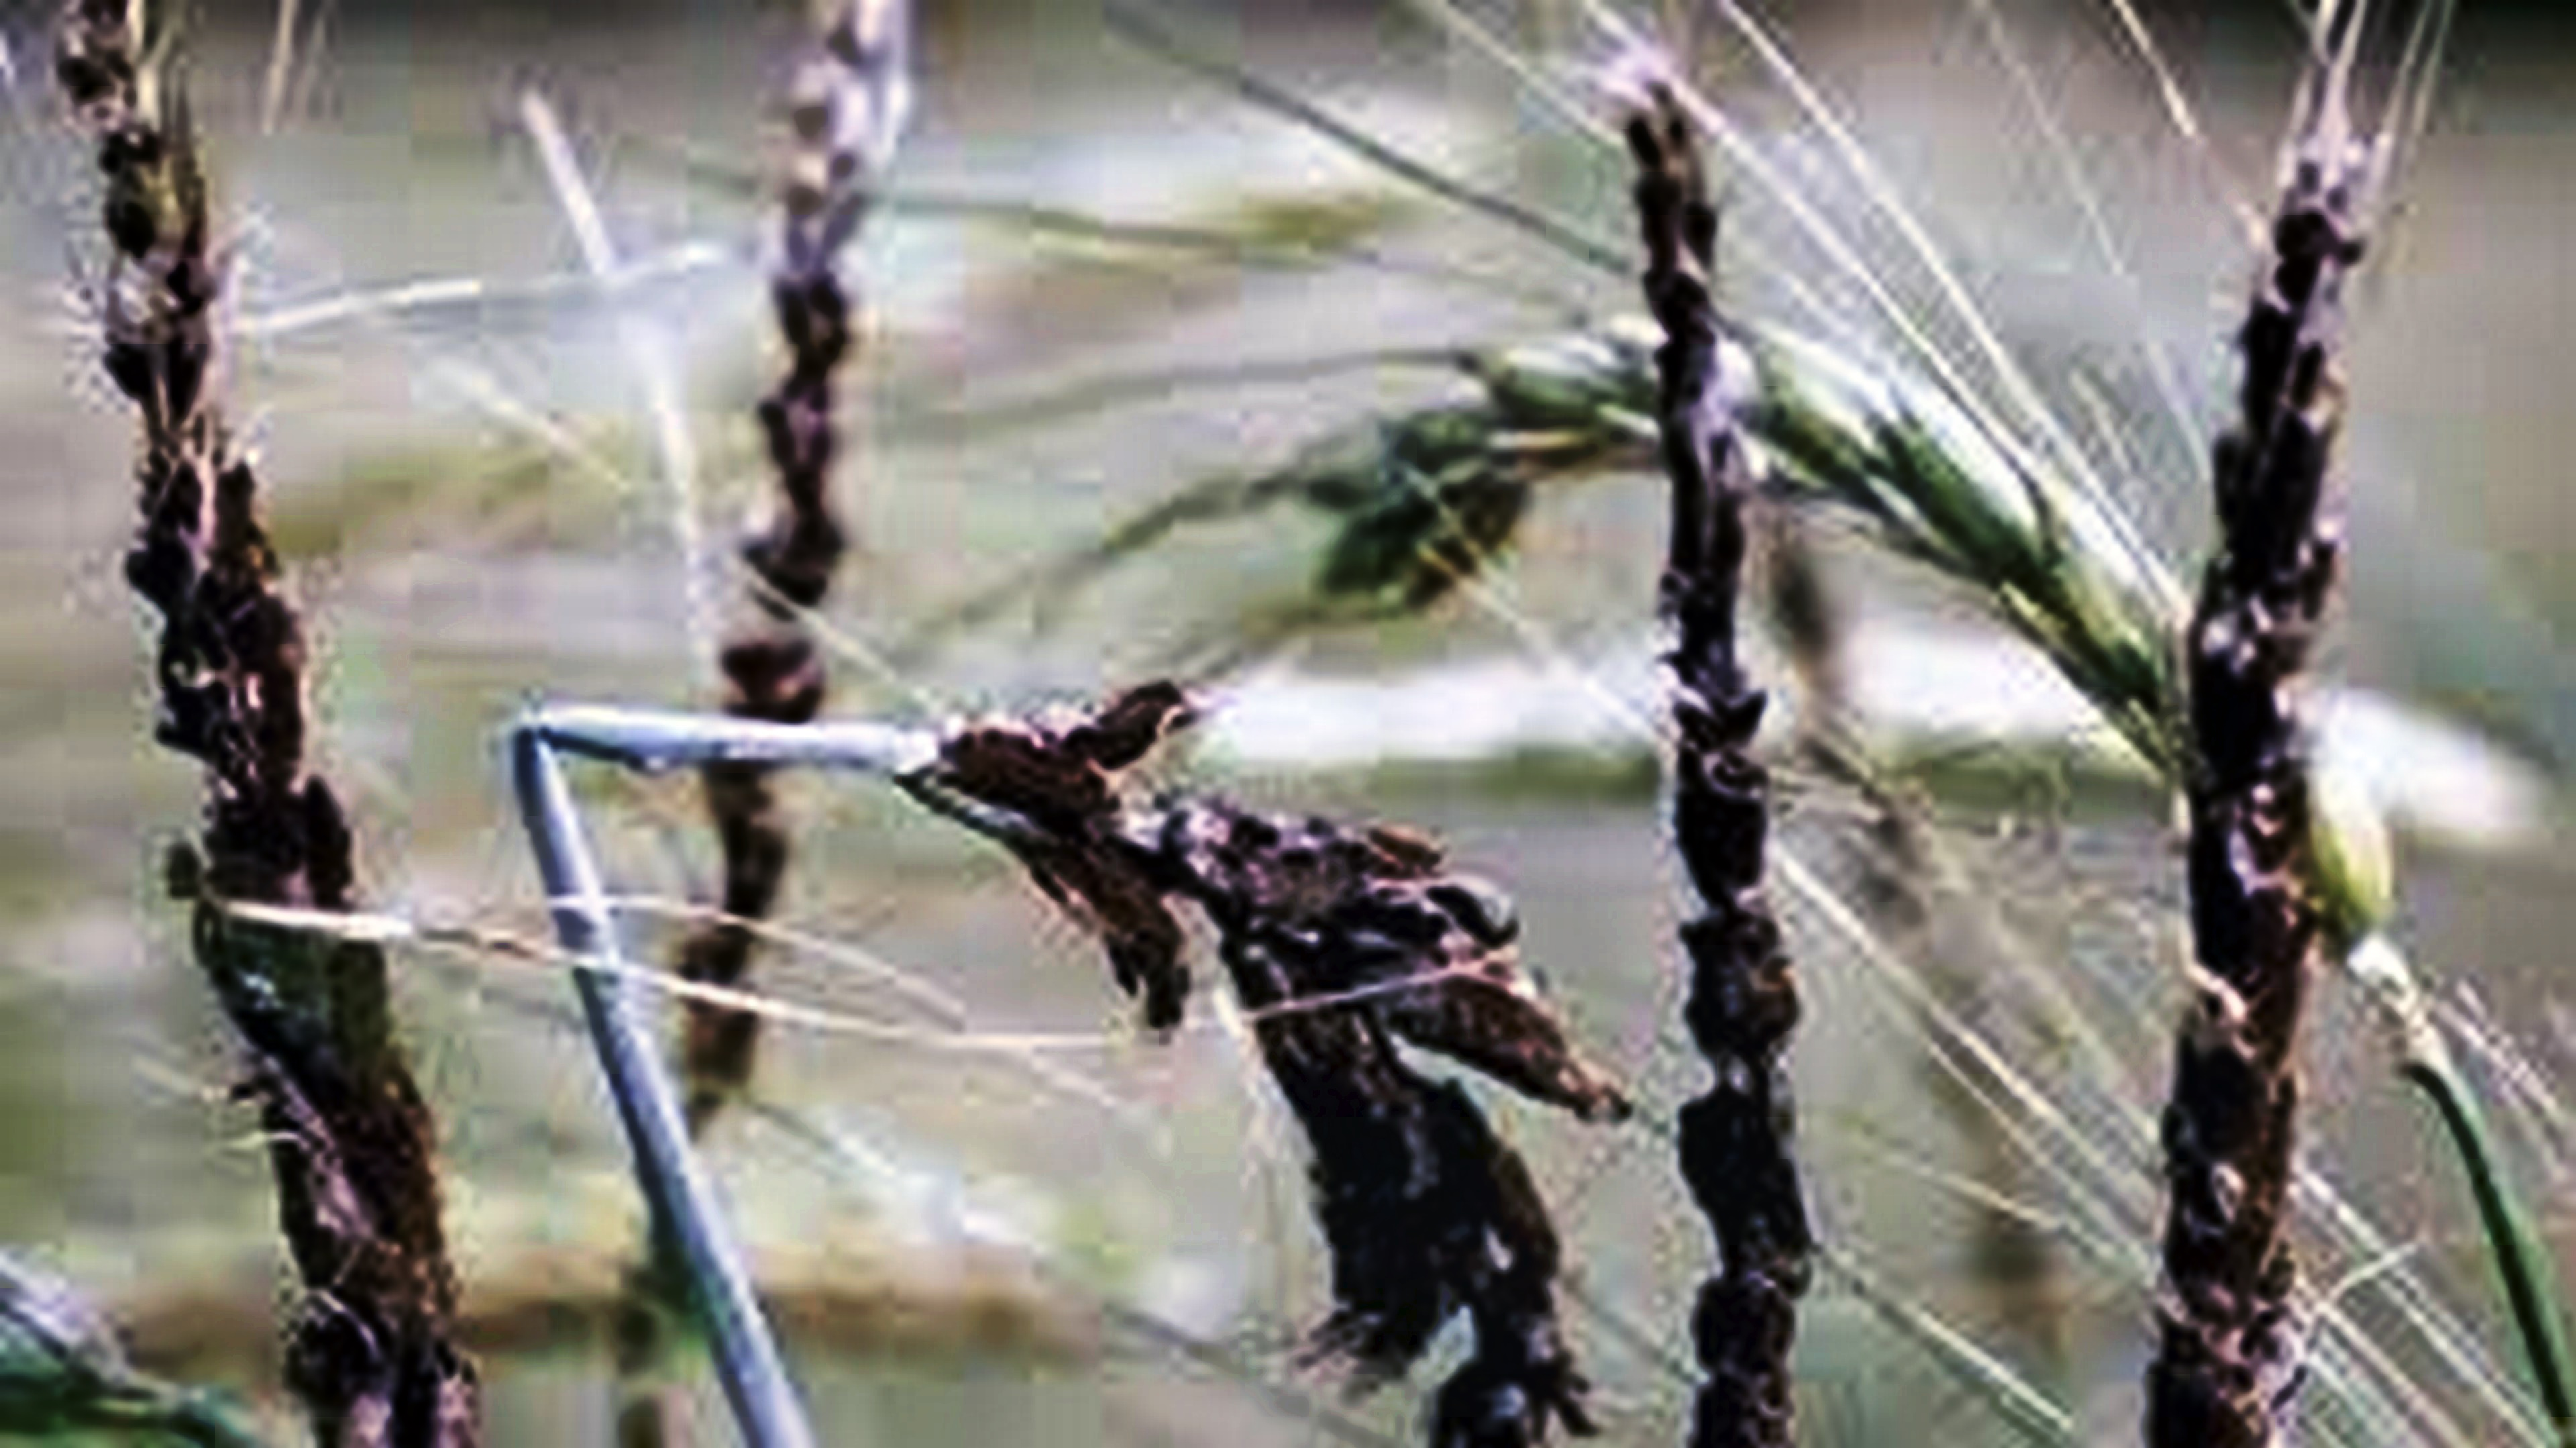Wheat Loose Smut: (35, 76, 474, 1315), (2121, 99, 2380, 1393), (1592, 60, 1838, 1402)
